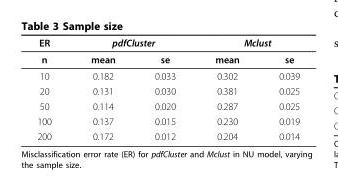table: (36, 36, 299, 141)
table column: (70, 36, 134, 141), (194, 36, 258, 141), (134, 36, 194, 141), (258, 36, 299, 141), (36, 36, 70, 141)
table column header: (36, 36, 299, 67)
table row: (36, 50, 299, 67), (36, 67, 299, 83), (36, 83, 299, 98), (36, 98, 299, 113), (36, 113, 299, 128), (36, 36, 299, 50), (36, 128, 299, 141)
table spanning cell: (70, 36, 194, 50), (194, 36, 299, 50), (36, 36, 70, 67)
